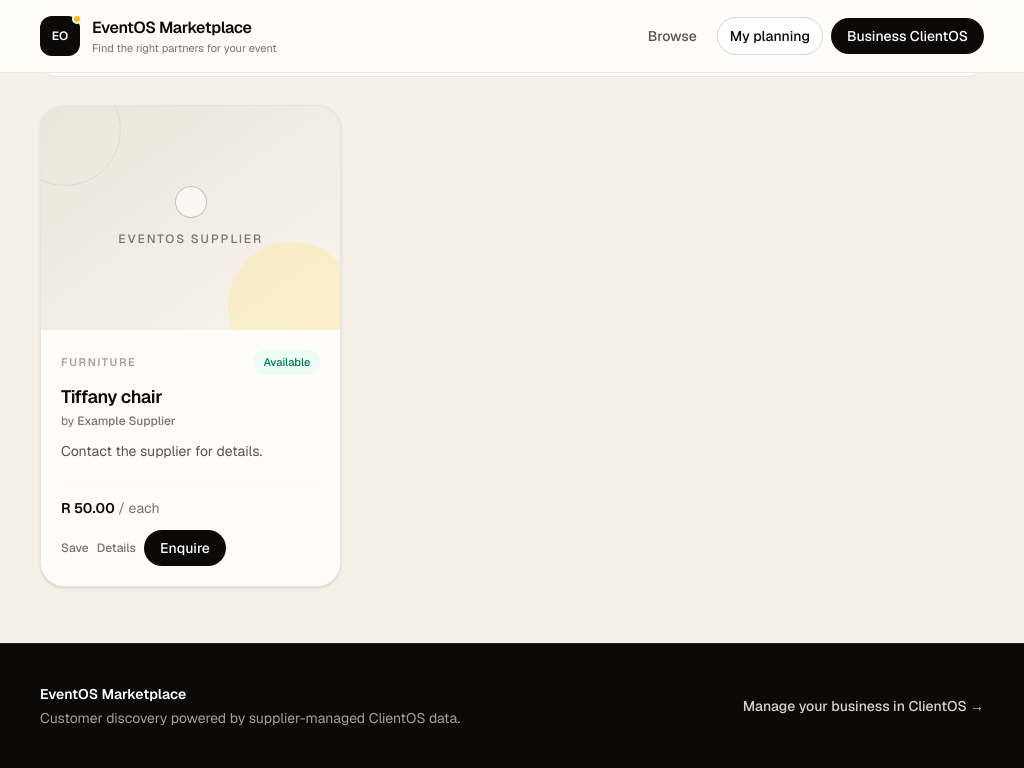
it: MarketplacePage customer enquiry › uses the signed-in customer identity without asking for duplicate contact details
(page scrolled)
Click the button "Enquire": (185, 548) x1=144 y1=530 x2=226 y2=566
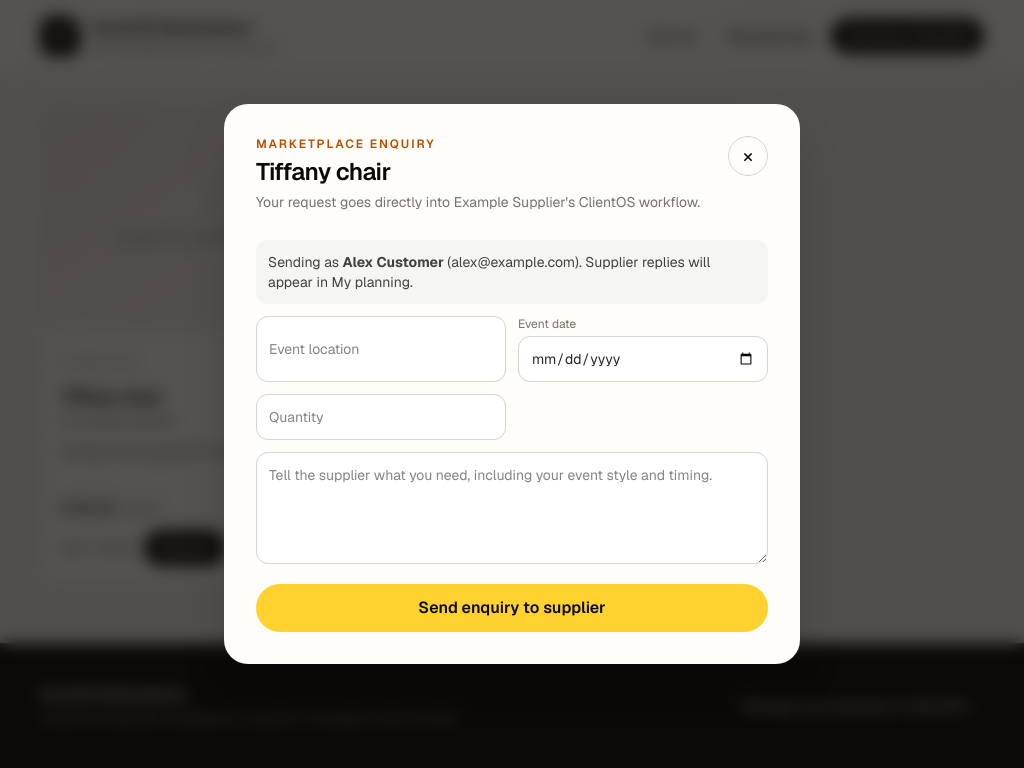
Expected: the text "Sending as" shows "Alex Customer", x1=343 y1=253 x2=444 y2=271
Expected: the text box named "Enquiry details" is shown, x1=256 y1=452 x2=768 y2=564
